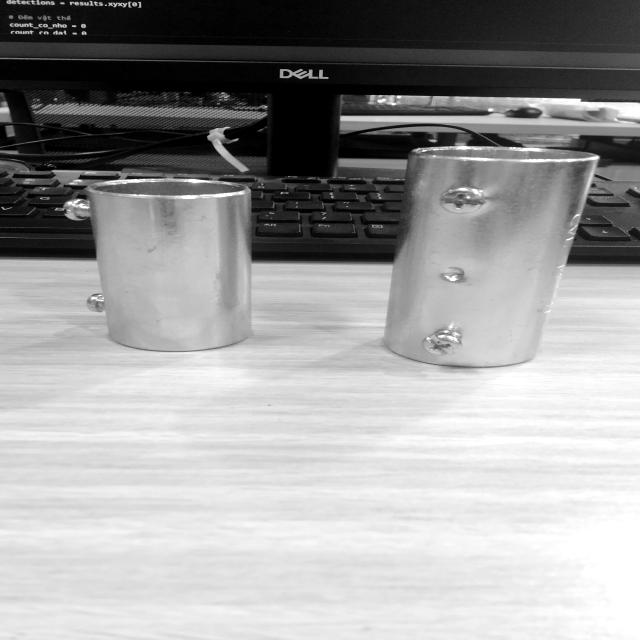Co_Lon: (381, 130, 599, 382)
Co_Nho: (55, 174, 253, 353)
